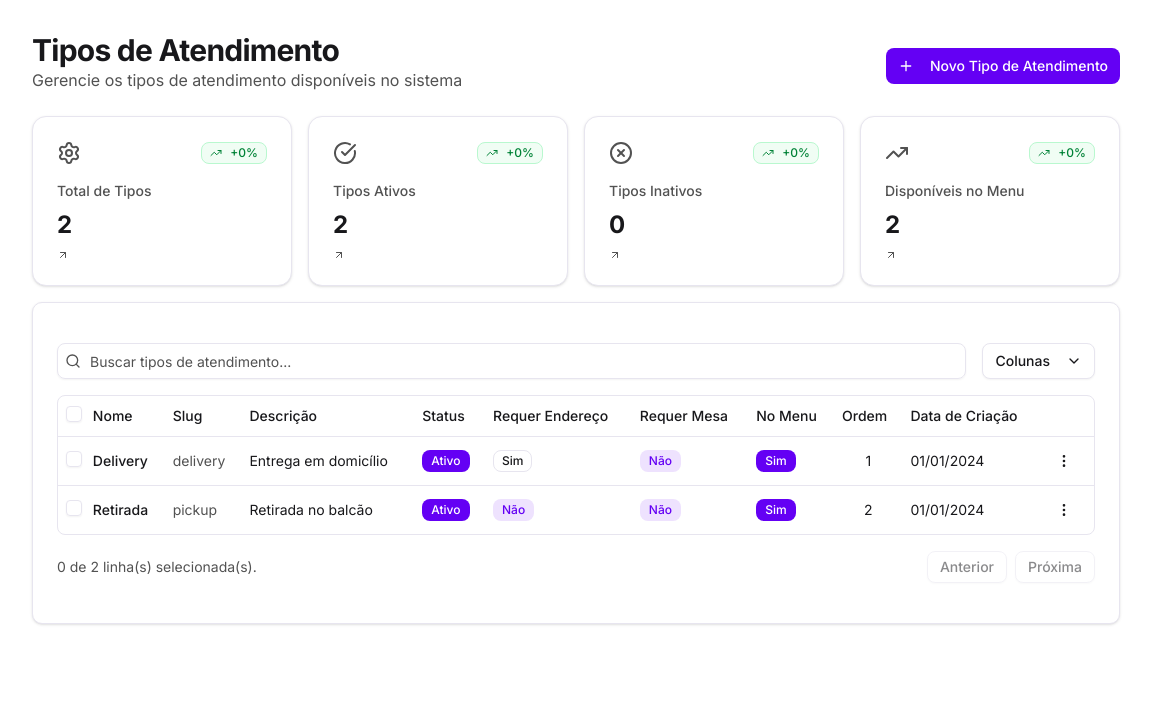
Test case: ServiceTypes delete - frontend › exibe mensagem de sucesso após exclusão bem-sucedida
Expected: the text "Delivery" is shown, [93,450,157,470]
Note: Abrir menu de ações
Click the button named "Open menu" in the row of "Entrega em domicílio" at (1064, 460), box [1048,444,1080,476]
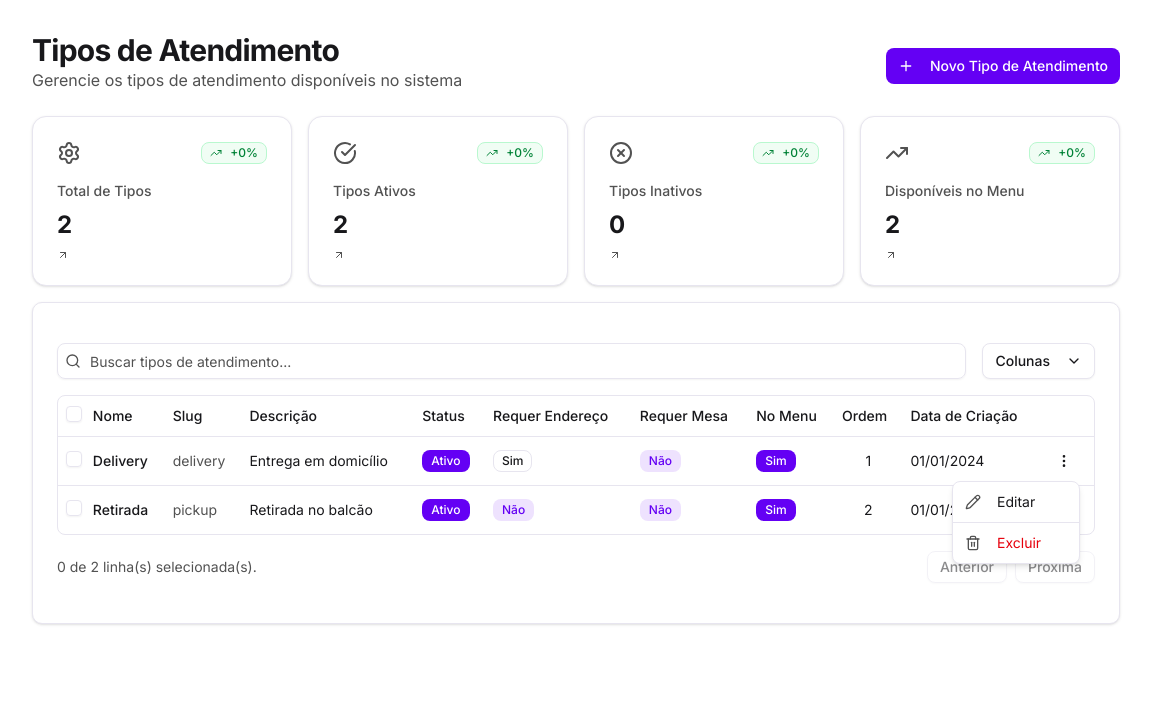
Note: Clicar em "Excluir"
Click the menu item "Excluir" at (1003, 542), box [965,534,1041,551]
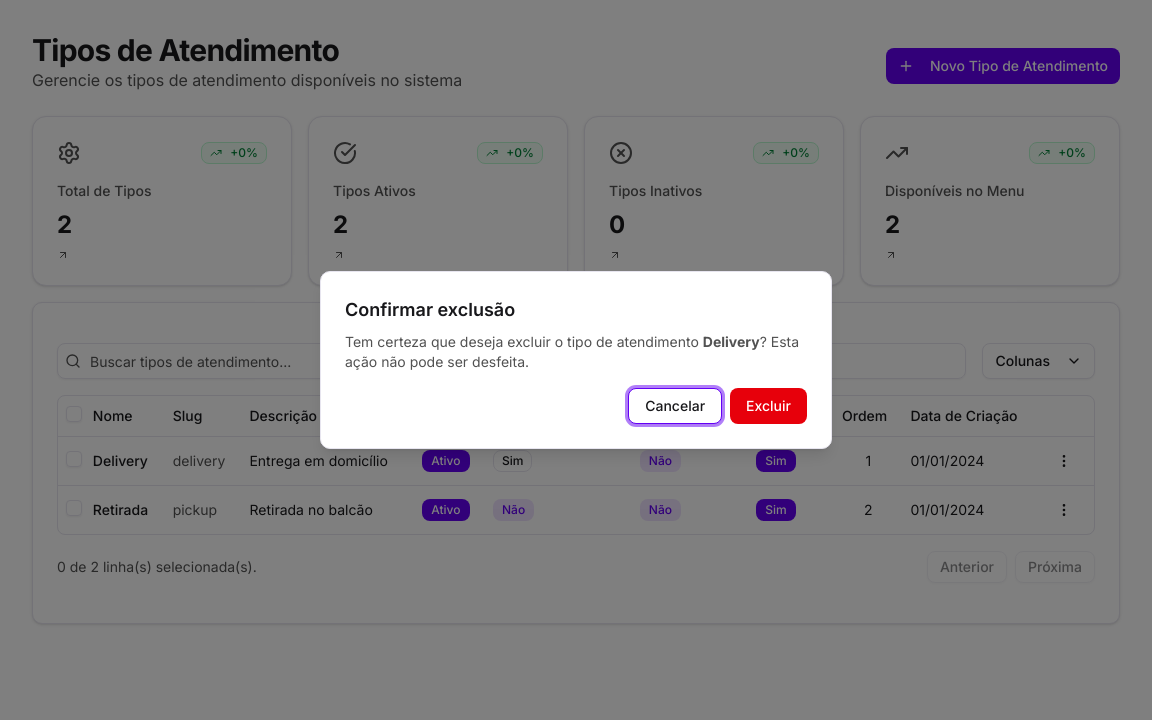
Note: Confirmar exclusão
Click the button "Excluir" at (769, 406), box [730,388,807,424]
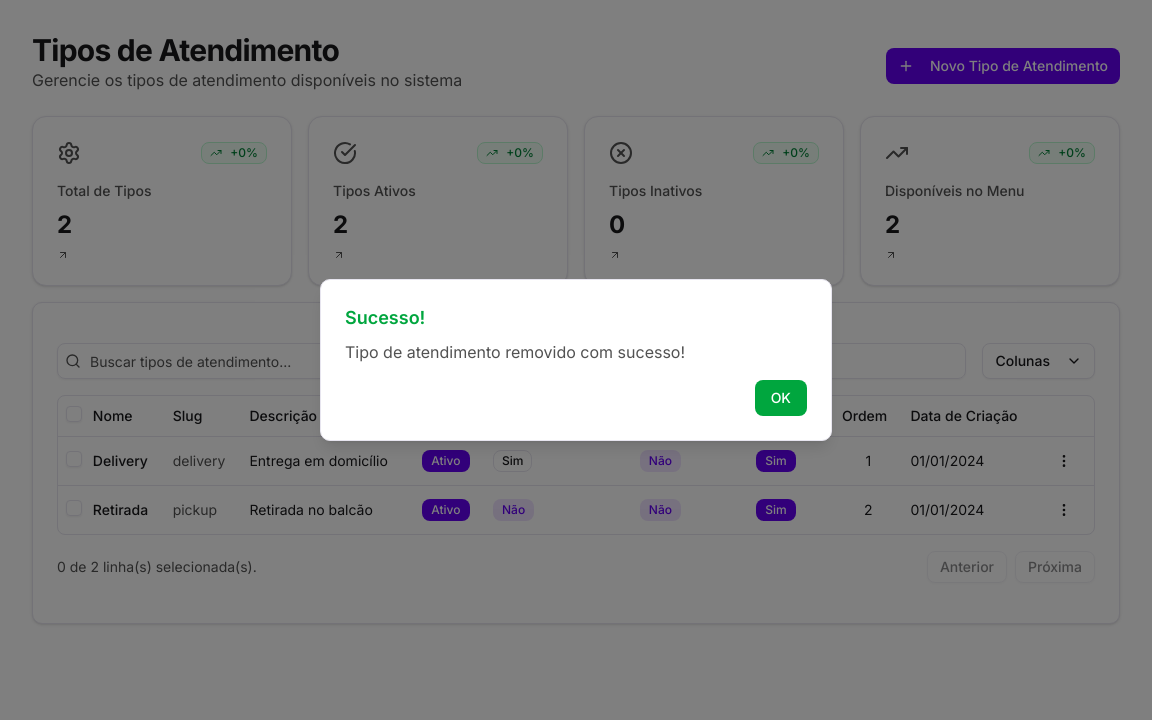
Result: the text "Tipo de atendimento removido com sucesso!" is shown at [345,342,685,362]
